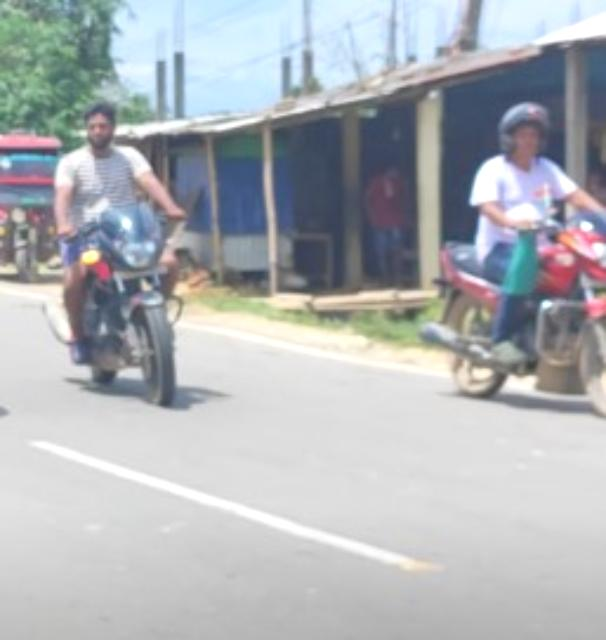motorcycle: (427, 106, 606, 424), (40, 88, 205, 409)
withHelmet: (504, 108, 559, 160)
withoutHelmet: (80, 104, 119, 156)
